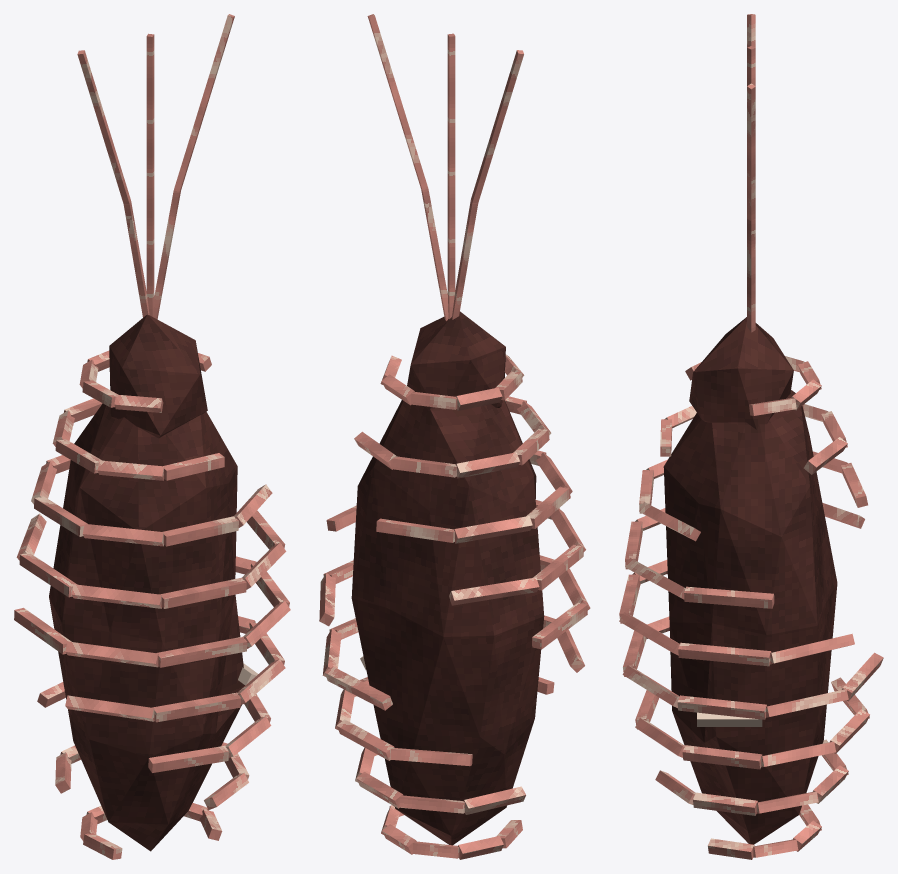
File: cocoon.glb
3 renders of one model, left to right at view 1: azimuth 30°, elevation 25°; view 2: azimuth 150°, elevation 25°; view 3: azimuth 270°, elevation 25°, orthographic. The views are drawn at different scales.
Parts seen in each view (by area): view 1: cocoon; view 2: cocoon; view 3: cocoon.
Boxes of the visible parts, left/top/right/bottom form: cocoon: left=14, top=14, right=290, bottom=859; cocoon: left=319, top=14, right=590, bottom=859; cocoon: left=619, top=14, right=883, bottom=859.
Size of the model in its own units: 0.6063 by 2.03 by 0.6082.
3 materials, 2 textured.
